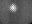person: (11, 3, 18, 12)
